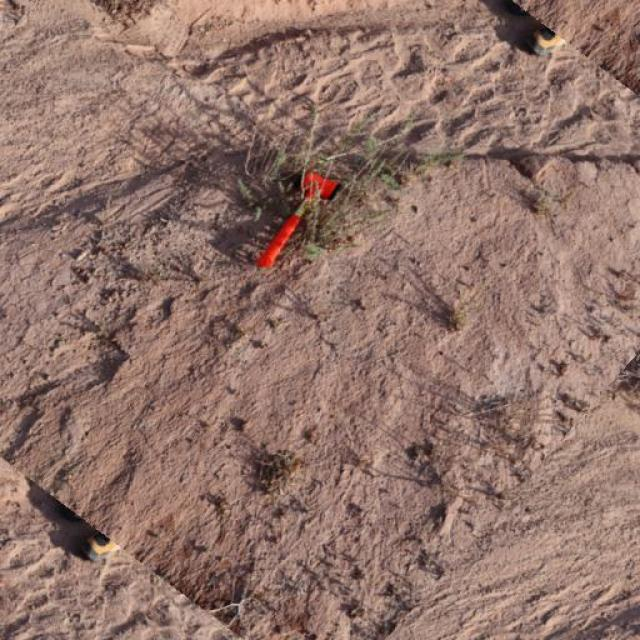mallet: (254, 169, 338, 270)
